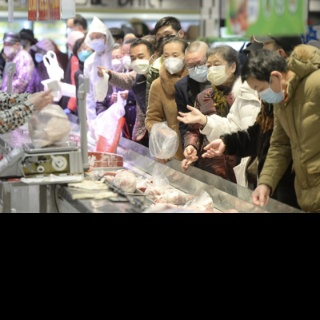with_mask: (252, 84, 288, 107), (206, 60, 229, 88), (185, 59, 208, 84), (163, 51, 185, 74), (130, 52, 150, 75), (89, 34, 107, 53), (75, 44, 92, 62), (121, 49, 132, 71), (110, 53, 121, 72), (2, 43, 14, 57), (33, 51, 44, 63)
